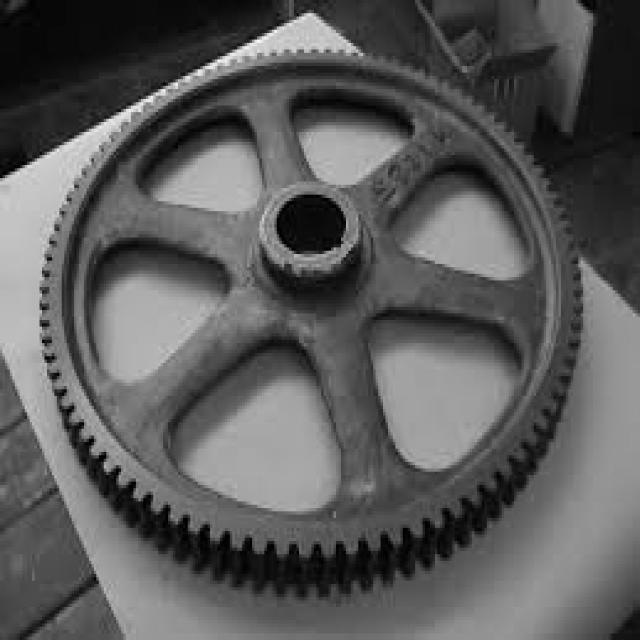No Fault: (14, 0, 603, 611)
